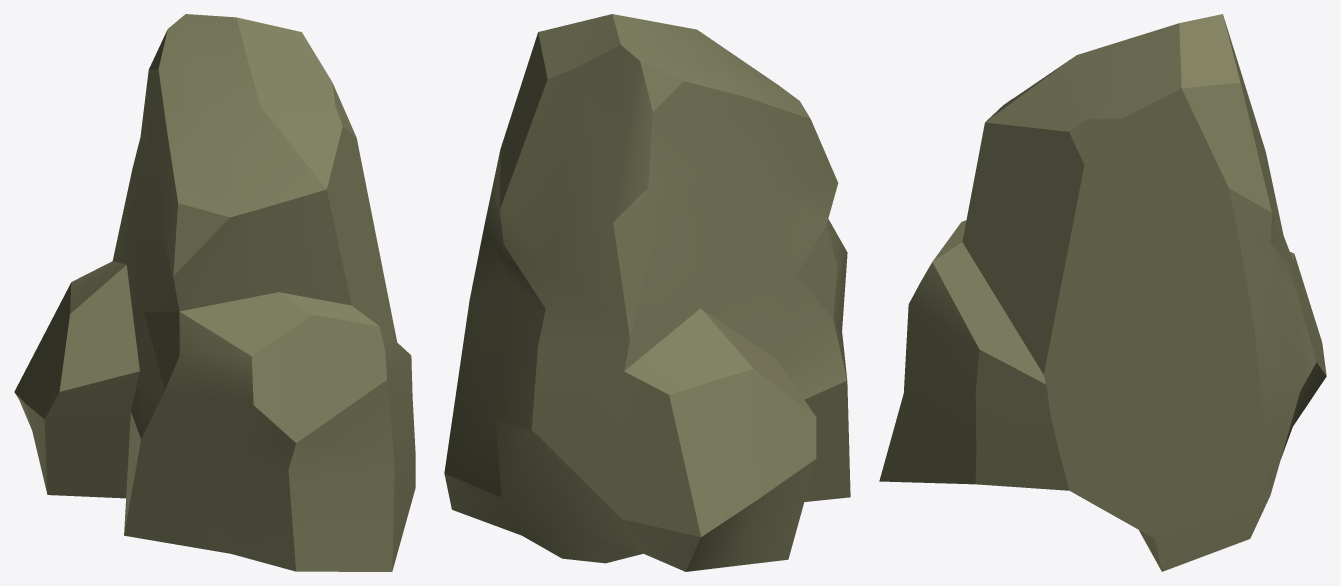
Rendered from Rock_1.fbx.
3 views of the same model, side by side, from view 1: azimuth 30°, elevation 25°; view 2: azimuth 150°, elevation 25°; view 3: azimuth 270°, elevation 25° (orthographic). The views are drawn at different scales.
Visible parts, largest first — view 1: Rock_1; view 2: Rock_1; view 3: Rock_1.
Part boxes in pixels (box(x1,y1,x2,y2)): Rock_1: box(14, 14, 415, 571); Rock_1: box(444, 14, 850, 571); Rock_1: box(879, 14, 1326, 571).
Bounding box in the file's own units: 0.2614 × 0.3982 × 0.3265.
